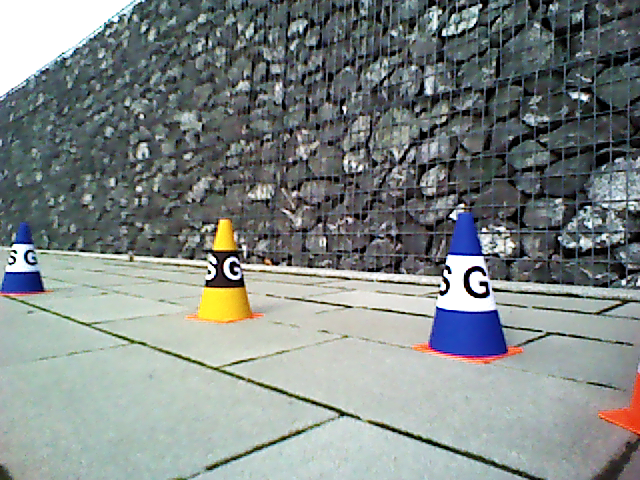bluecone: (426, 211, 512, 357), (1, 221, 44, 294)
yellowcone: (197, 220, 252, 321)
